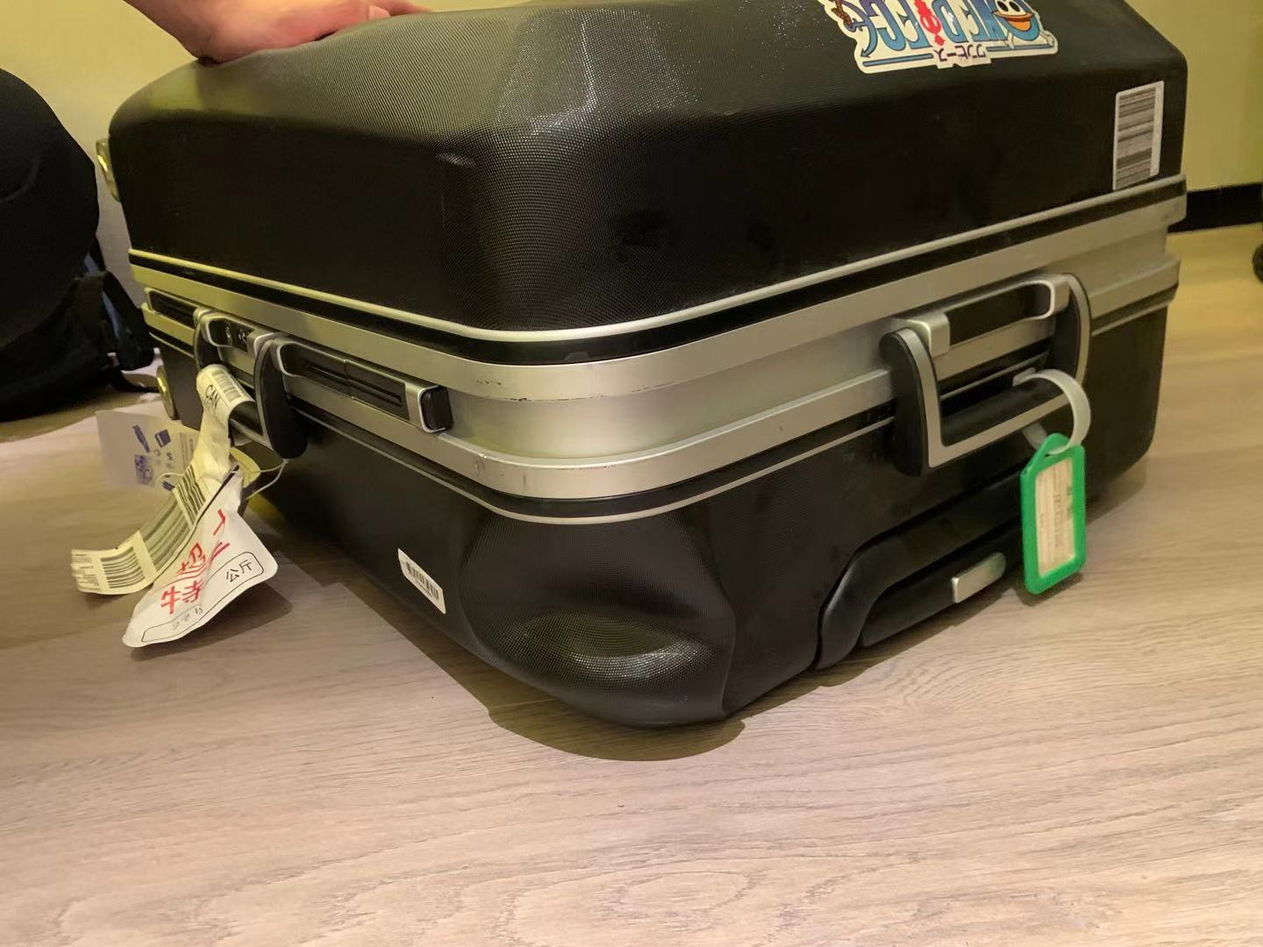rupture: (495, 602, 723, 691)
